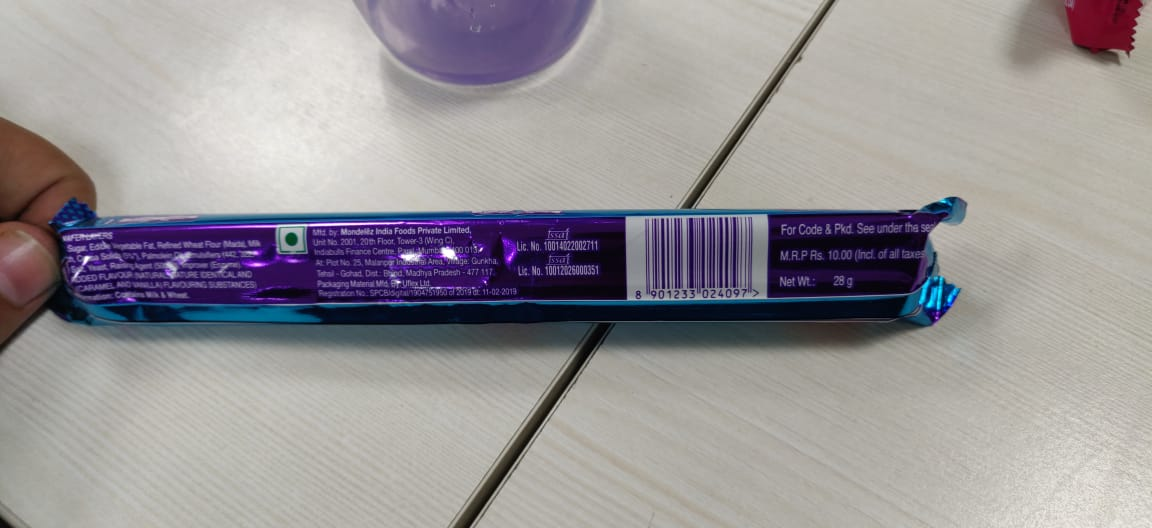perk: (44, 181, 992, 349)
